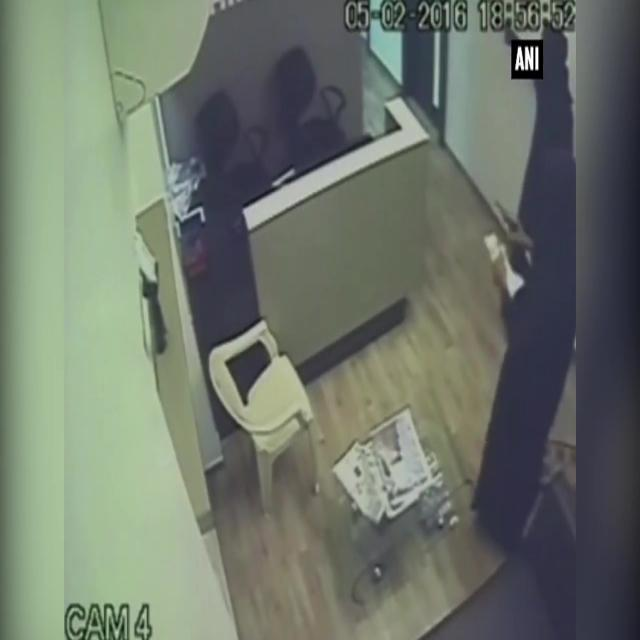Weapon: (490, 182, 523, 233), (497, 14, 522, 52)
